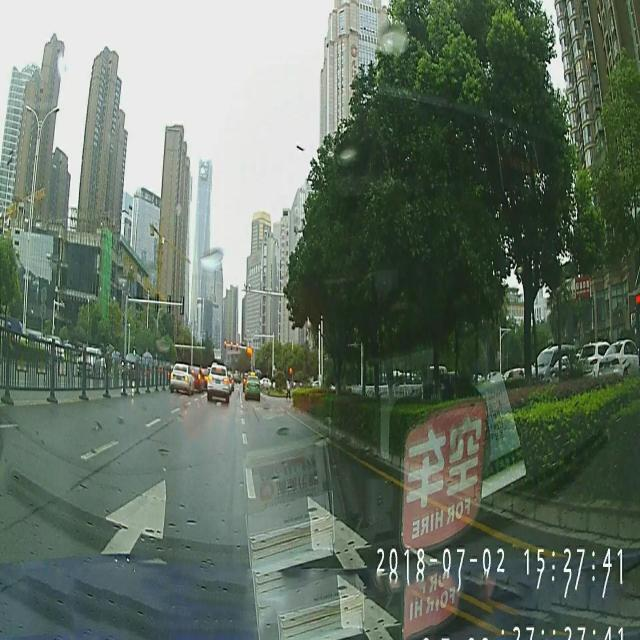car: (207, 364, 229, 399), (169, 363, 193, 394), (244, 374, 258, 399)
